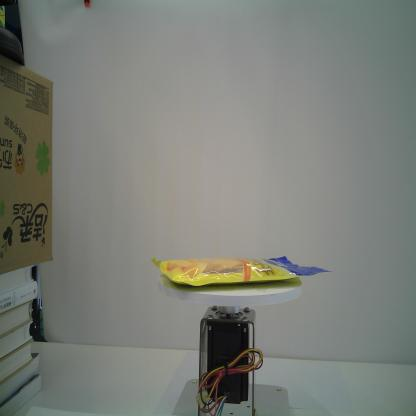Dried Fruit: (150, 253, 331, 290)
